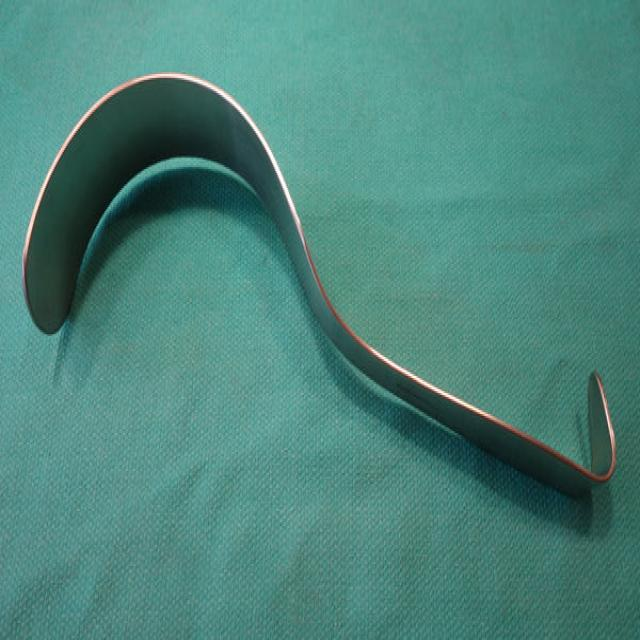Deaver Retractor: (19, 64, 618, 504)
